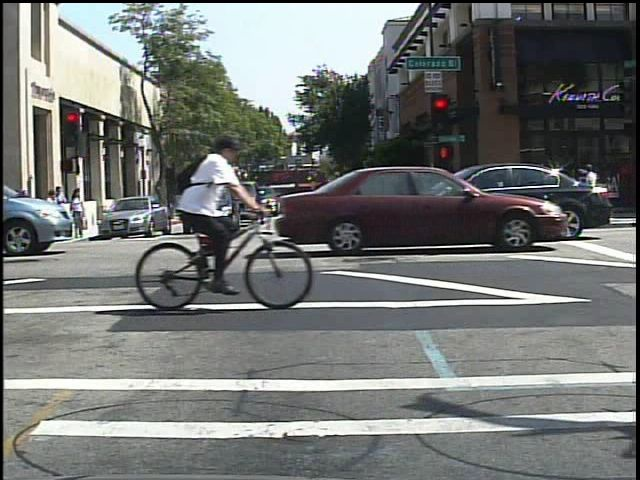person: (178, 124, 260, 303), (583, 159, 609, 224)
